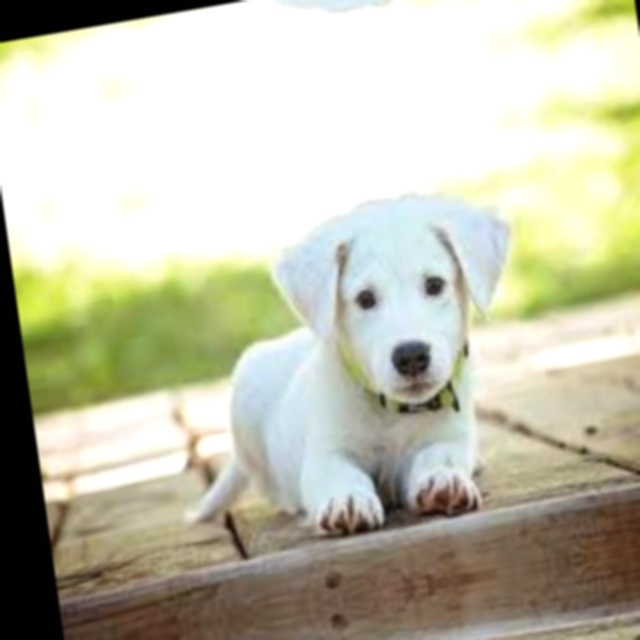dog: (179, 162, 568, 587), (150, 0, 493, 55), (239, 591, 589, 640)
